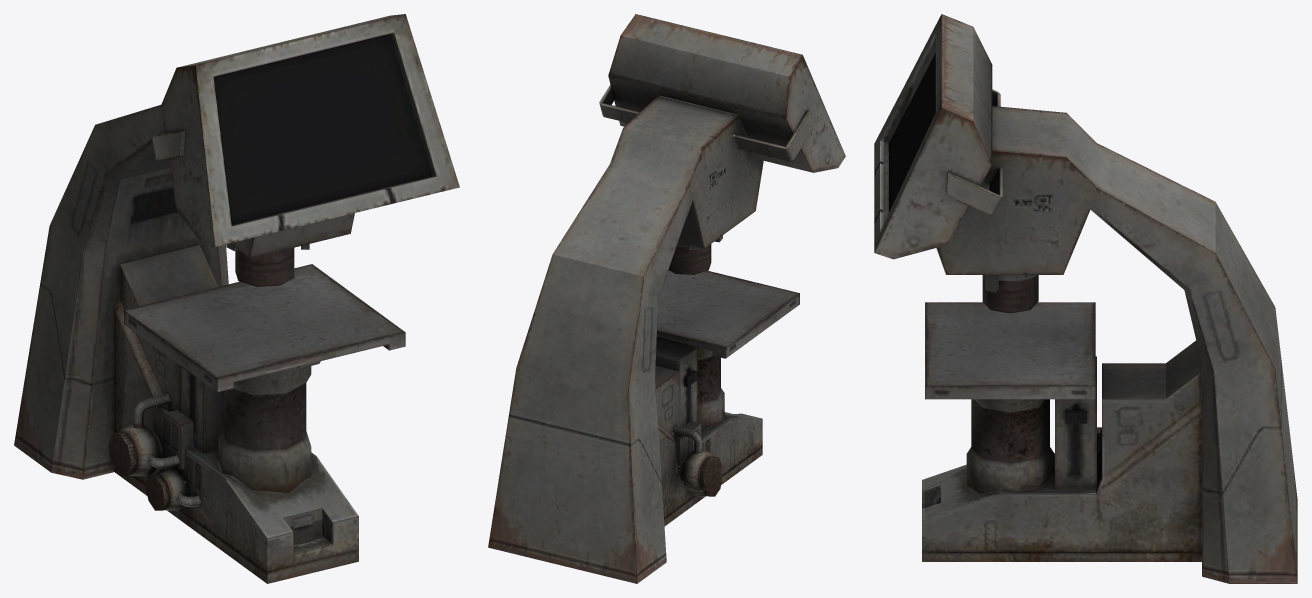
Rendered from microscope.DAE.
The picture shows the model from 3 angles, left to right: view 1: azimuth 30°, elevation 25°; view 2: azimuth 150°, elevation 25°; view 3: azimuth 270°, elevation 25°; orthographic projection. The views are drawn at different scales.
Visible parts, largest first — view 1: microscope; view 2: microscope; view 3: microscope.
Boxes of the visible parts, bbox=[...] form: microscope: bbox=[14, 14, 459, 583]; microscope: bbox=[488, 14, 845, 583]; microscope: bbox=[874, 14, 1297, 583].
Size of the model in its own units: 9.26 by 15.08 by 18.89.
